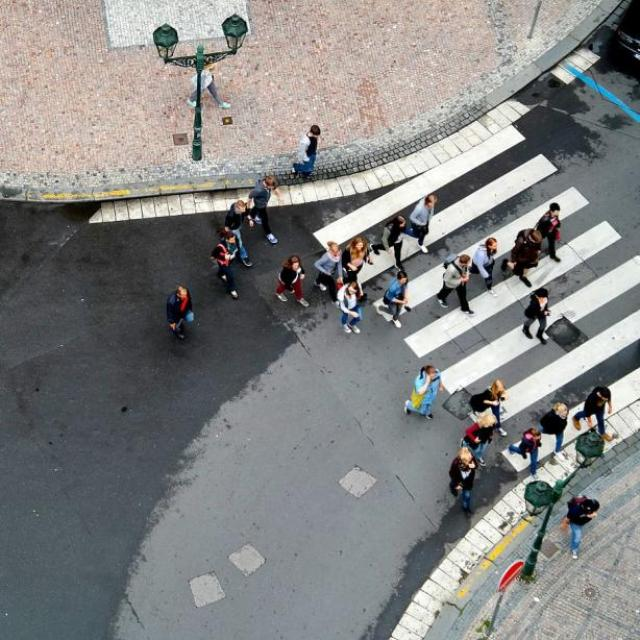pedestrian lane: (315, 125, 640, 473)
